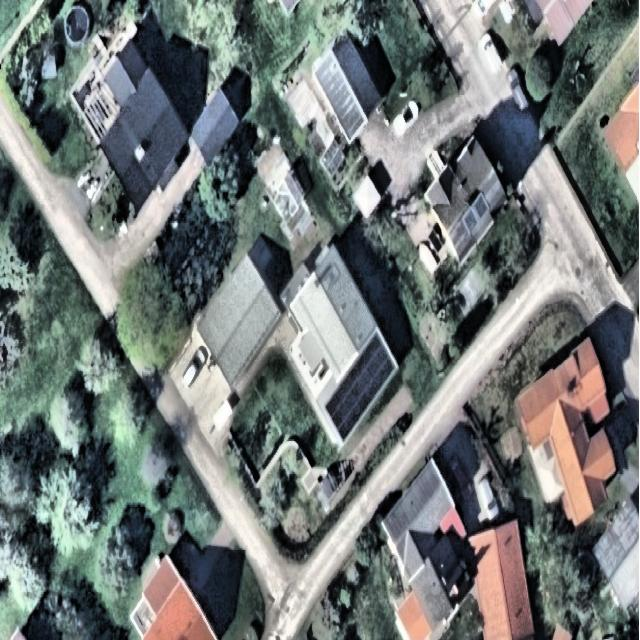roof_pv: (326, 332, 397, 448)
